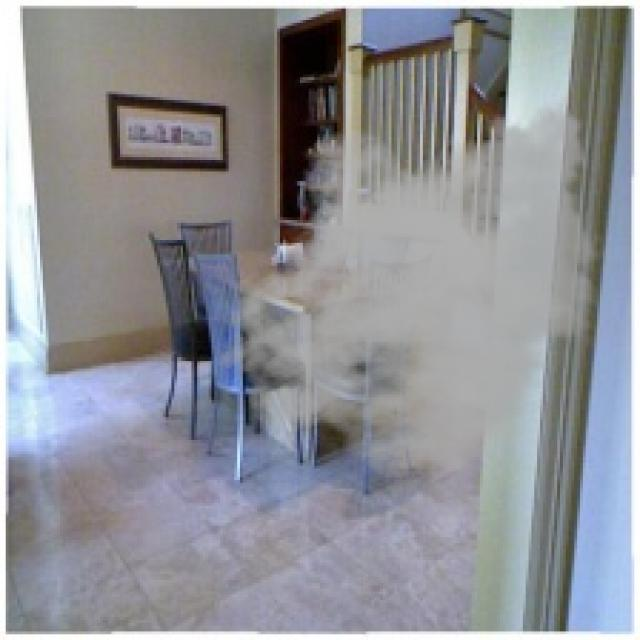smoke: (214, 89, 609, 480)
